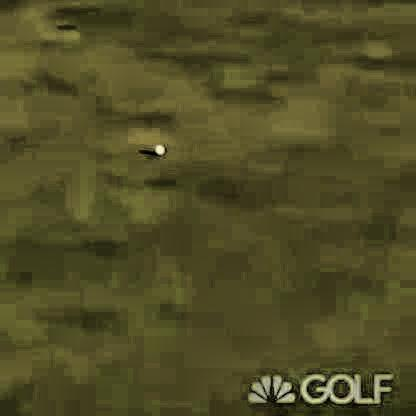golfball: (151, 138, 162, 151)
